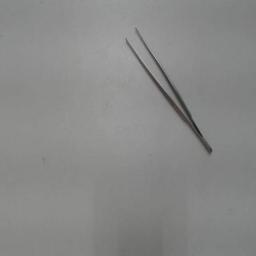Gillies Toothed Dissector: (122, 17, 214, 157)
